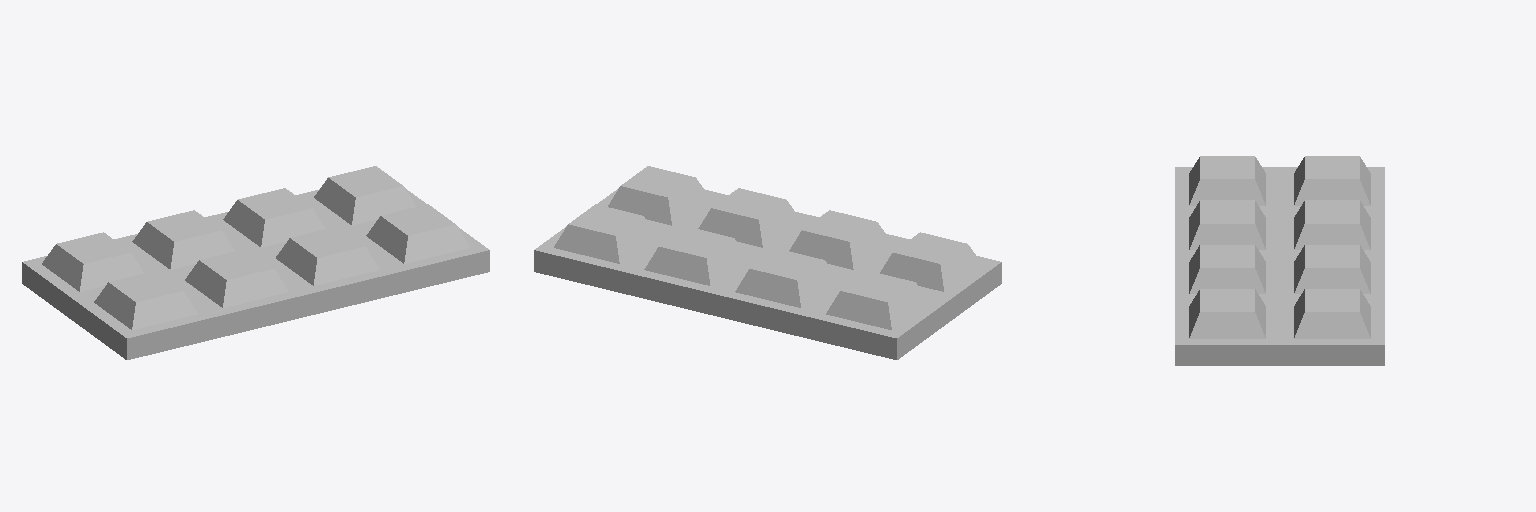
File: chocolate.obj
3 views of the same model, side by side, from view 1: azimuth 30°, elevation 25°; view 2: azimuth 150°, elevation 25°; view 3: azimuth 270°, elevation 25° (orthographic).
Visible parts, largest first — view 1: chocolate; view 2: chocolate; view 3: chocolate.
Part boxes in pixels (bbox=[...]): chocolate: bbox=[22, 166, 489, 359]; chocolate: bbox=[534, 166, 1001, 359]; chocolate: bbox=[1175, 156, 1384, 365].
Size of the model in its own units: 0.2924 by 0.0337 by 0.1462.